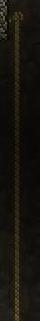ropeT: (0, 1, 40, 321)
